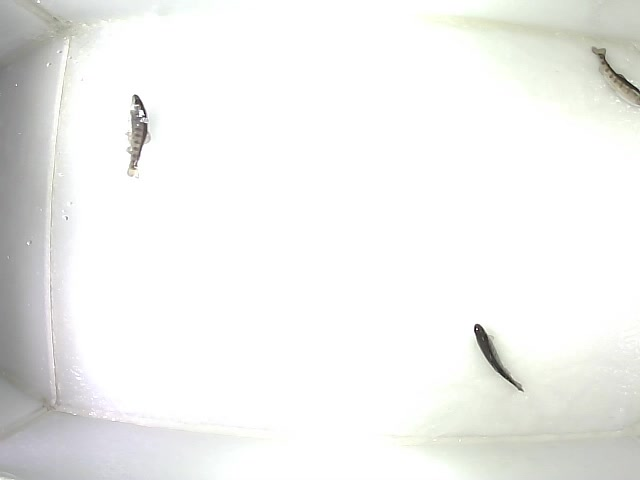fish: (473, 321, 525, 393), (590, 44, 640, 109), (123, 93, 152, 182)
